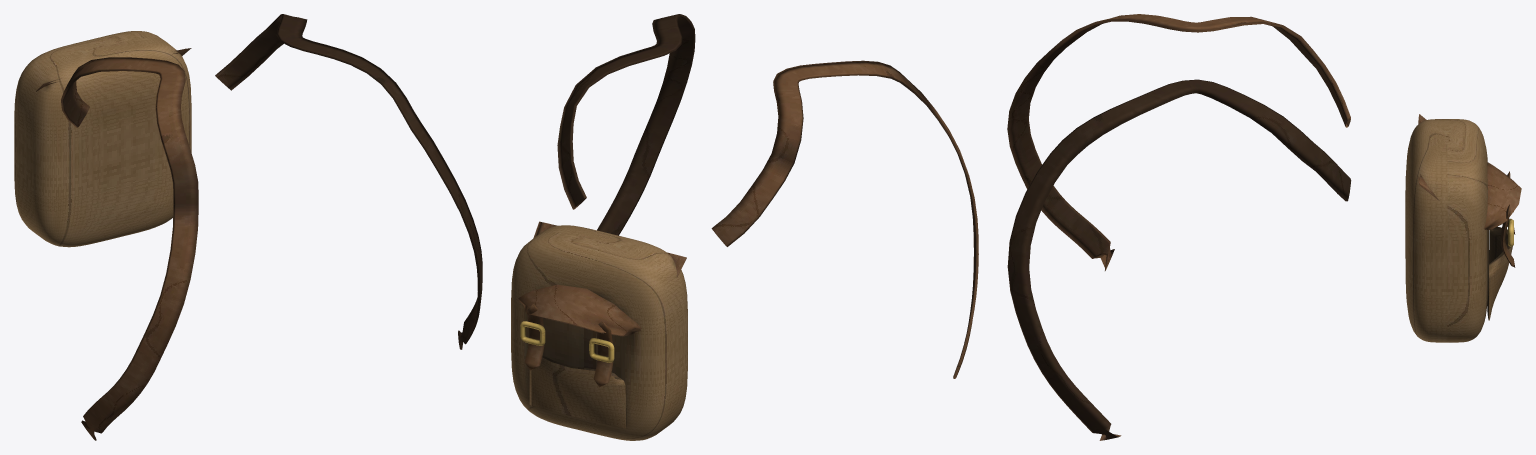
Rendered from backpack.glb.
3 views of the same model, side by side, from view 1: azimuth 30°, elevation 25°; view 2: azimuth 150°, elevation 25°; view 3: azimuth 270°, elevation 25° (orthographic). The views are drawn at different scales.
Parts seen in each view (by area): view 1: backpack_pack, backpack_strapl, backpack_strapr; view 2: backpack_pack, backpack_strapr, backpack_strapl, backpack_pocket, backpack_flap, backpack_tabl, backpack_tabr; view 3: backpack_pack, backpack_strapr, backpack_strapl, backpack_flap, backpack_pocket.
Boxes of the visible parts, x1,y1,x2,y2 form: backpack_pack: (14, 31, 191, 247); backpack_strapl: (61, 57, 198, 440); backpack_strapr: (215, 14, 482, 349); backpack_pack: (511, 225, 687, 440); backpack_strapr: (557, 14, 695, 235); backpack_strapl: (711, 60, 978, 378); backpack_pocket: (529, 356, 626, 428); backpack_flap: (518, 221, 686, 336); backpack_tabl: (593, 320, 613, 387); backpack_tabr: (524, 304, 544, 370); backpack_pack: (1405, 119, 1488, 342); backpack_strapr: (1007, 79, 1351, 440); backpack_strapl: (1007, 14, 1350, 270); backpack_flap: (1418, 114, 1521, 229); backpack_pocket: (1487, 226, 1512, 320).
Size of the model in its own units: 24.59 by 18.97 by 29.13.
Materials: 1 (1 with a texture image).
